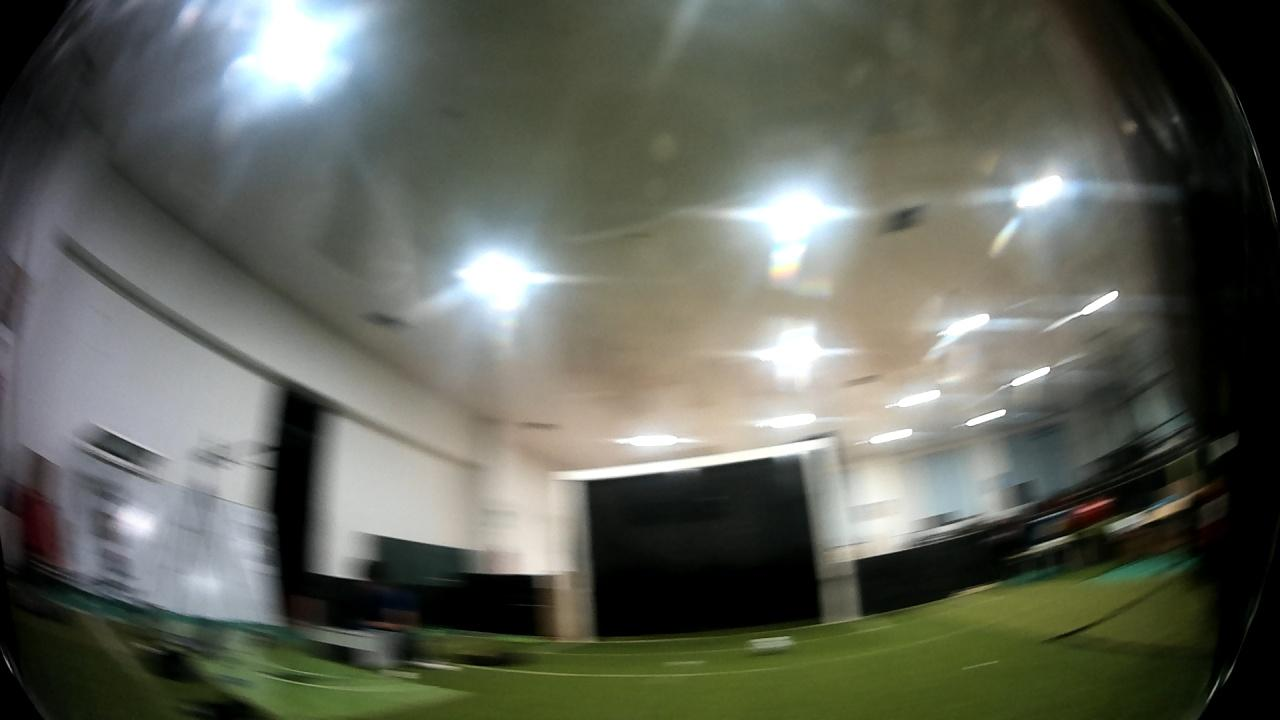ball: (747, 630, 795, 655)
